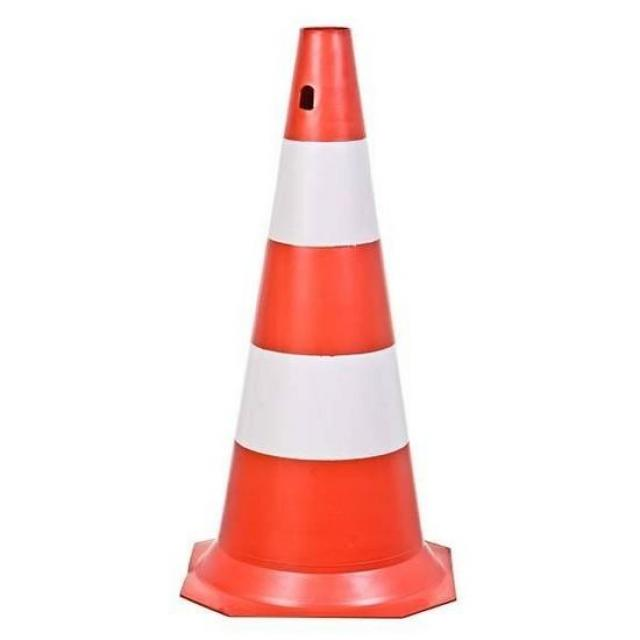cone: (167, 25, 470, 618)
